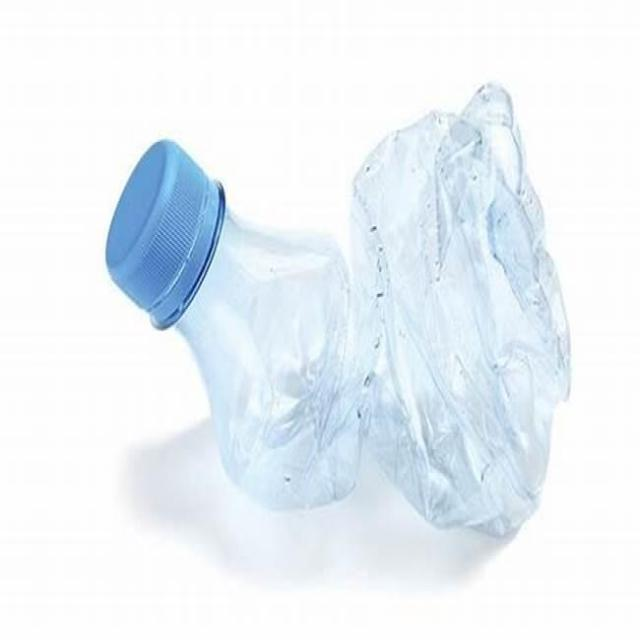plastic bottle: (178, 81, 571, 537)
plastic bottle cap: (104, 138, 211, 312)
